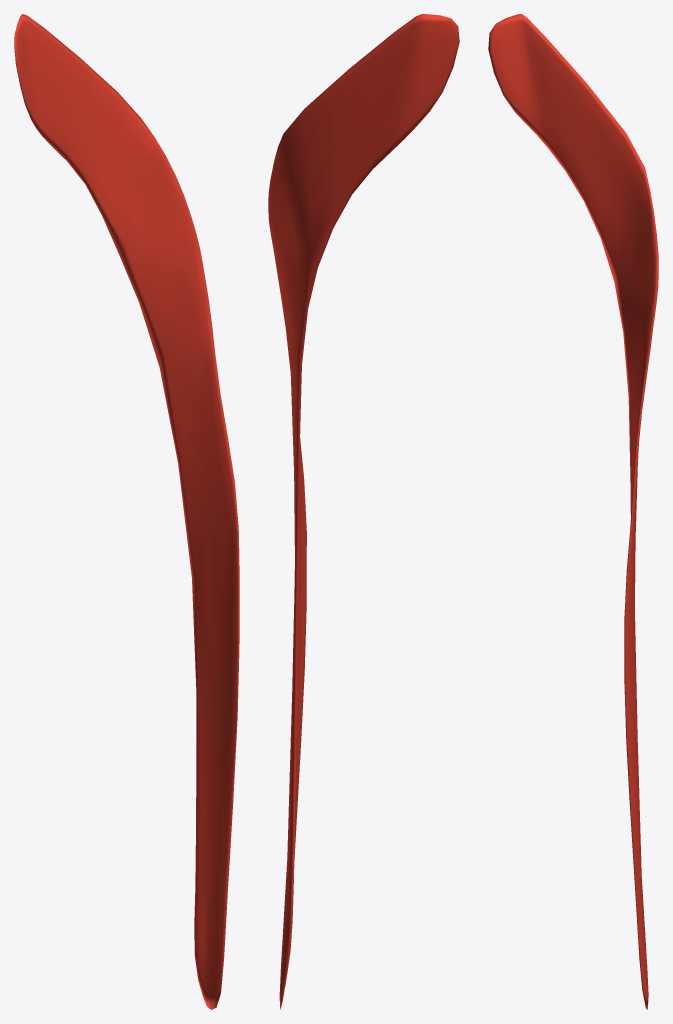
File: Solear_on_solear_crest_on_oblique_line.r_Generated_Mesh_From_X3.glb
3 renders of one model, left to right at view 1: azimuth 30°, elevation 25°; view 2: azimuth 150°, elevation 25°; view 3: azimuth 330°, elevation 25°, orthographic. The views are drawn at different scales.
Visible parts, largest first — view 1: Solear_on_solear_crest_on_oblique_line.r_Generated_Mesh_From; view 2: Solear_on_solear_crest_on_oblique_line.r_Generated_Mesh_From; view 3: Solear_on_solear_crest_on_oblique_line.r_Generated_Mesh_From.
Boxes of the visible parts, x1=… form: Solear_on_solear_crest_on_oblique_line.r_Generated_Mesh_From: x1=14, y1=14, x2=239, y2=1009; Solear_on_solear_crest_on_oblique_line.r_Generated_Mesh_From: x1=268, y1=14, x2=459, y2=1009; Solear_on_solear_crest_on_oblique_line.r_Generated_Mesh_From: x1=488, y1=14, x2=658, y2=1009.
Size of the model in its own units: 0.0254 by 0.1314 by 0.0146.
